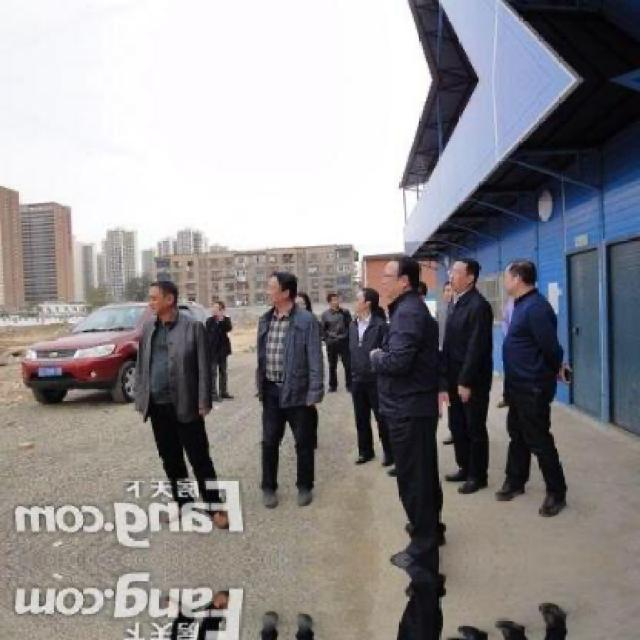sin casco: (355, 243, 439, 309), (110, 264, 203, 323), (232, 264, 318, 327), (487, 262, 568, 322), (414, 235, 470, 305), (339, 279, 408, 314)
